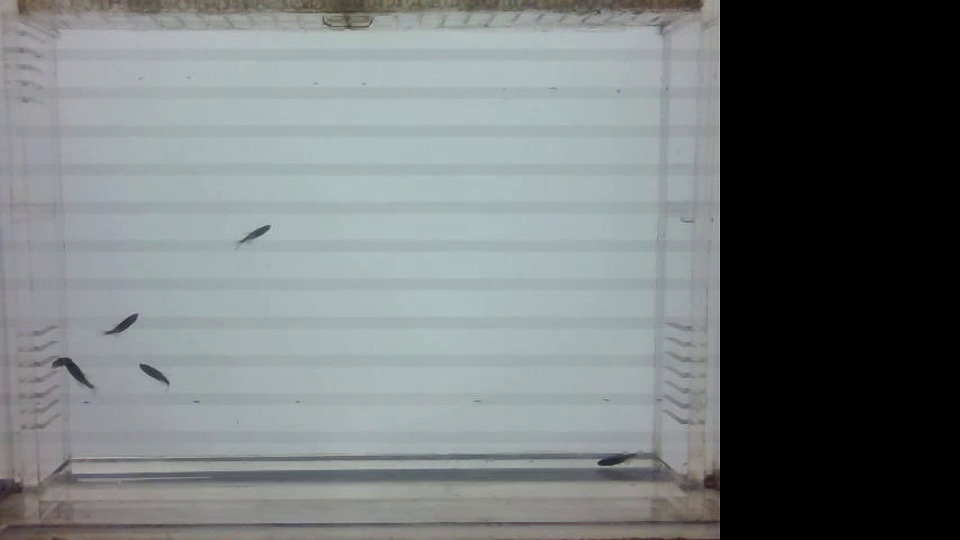fish: (593, 448, 640, 472), (101, 312, 140, 338), (136, 364, 172, 392), (234, 222, 273, 245), (64, 364, 94, 392), (49, 352, 73, 372)
